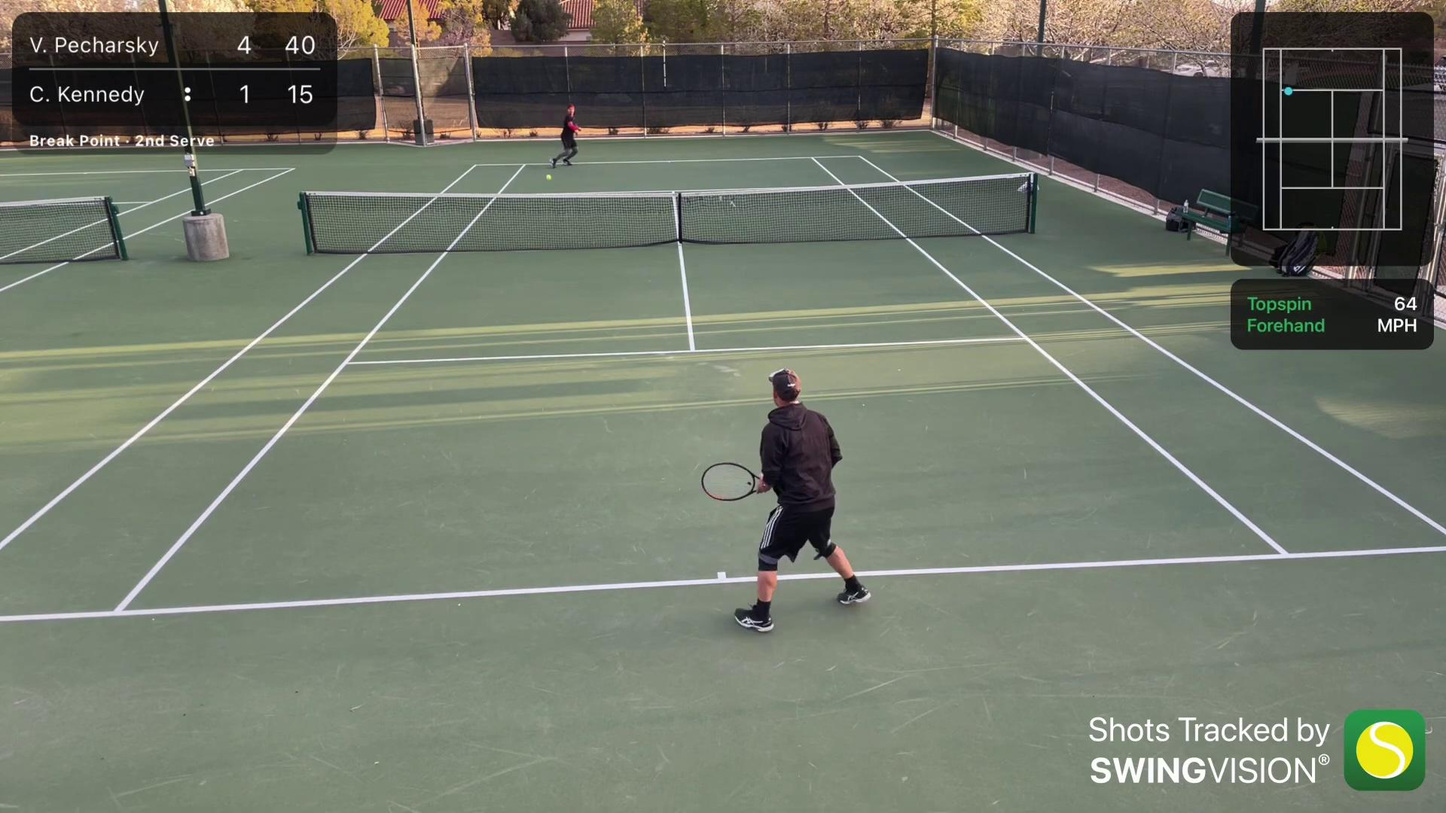ball: (547, 175, 552, 181)
